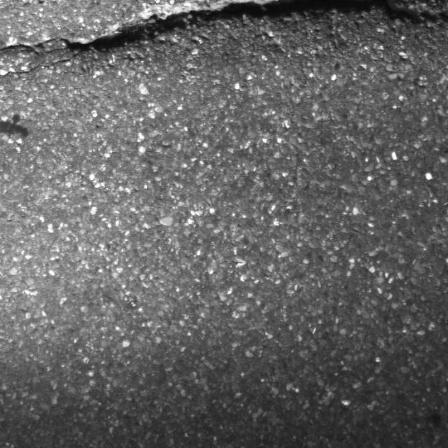crack: (0, 0, 448, 82)
